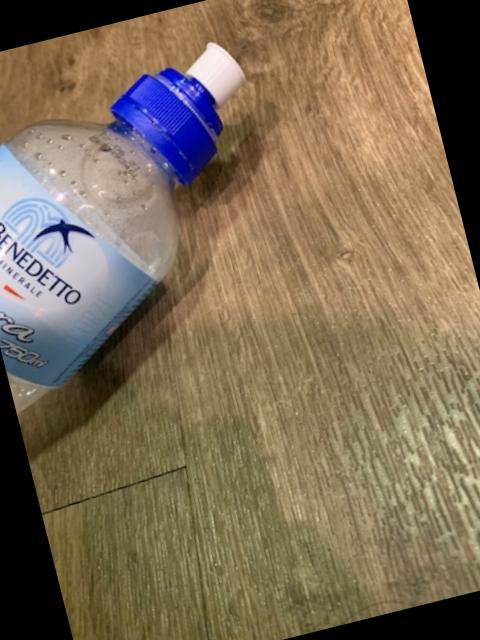plastic: (0, 42, 241, 409)
